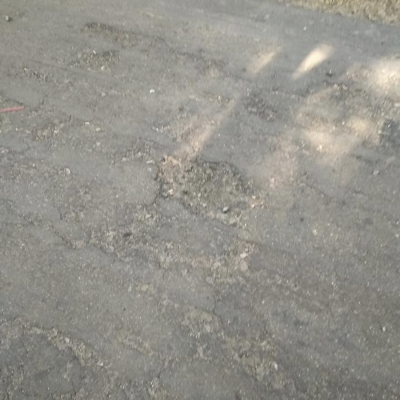pothole: (150, 150, 269, 228)
